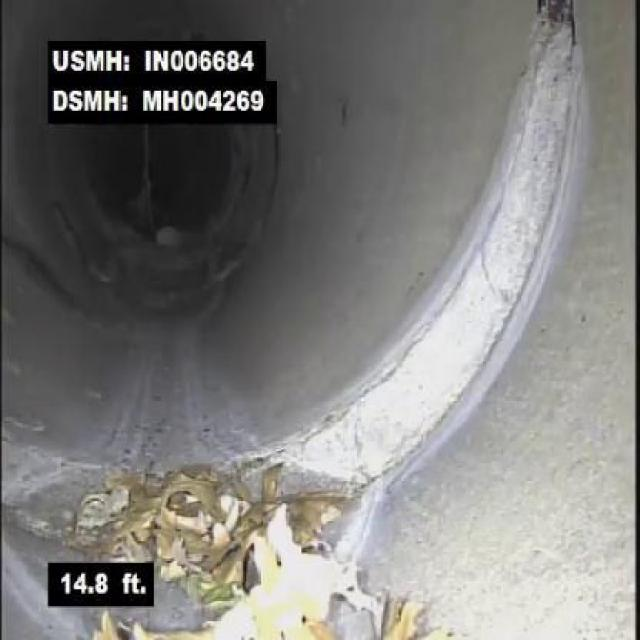Joint offset: (300, 15, 591, 491)
